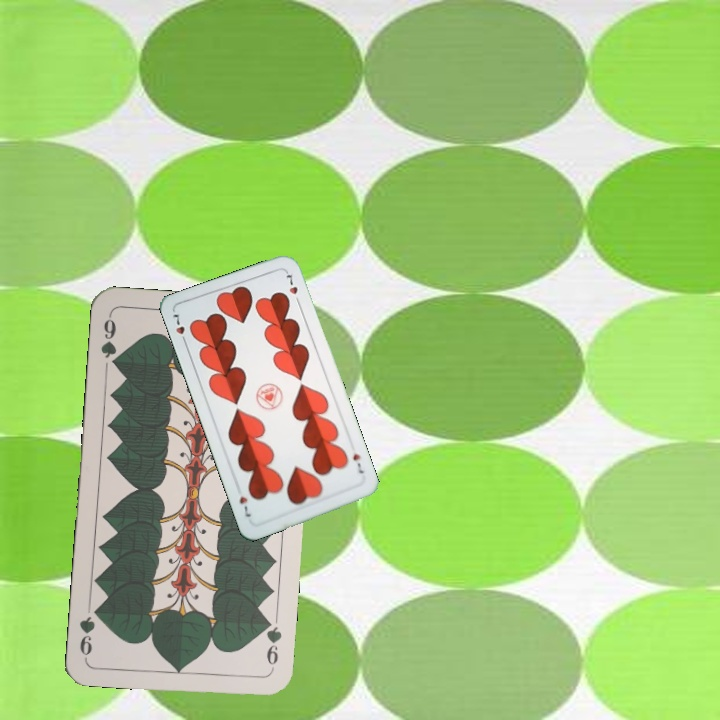G9: (97, 311, 121, 371), (261, 613, 284, 673)
H7: (169, 310, 190, 348), (349, 449, 366, 476)
